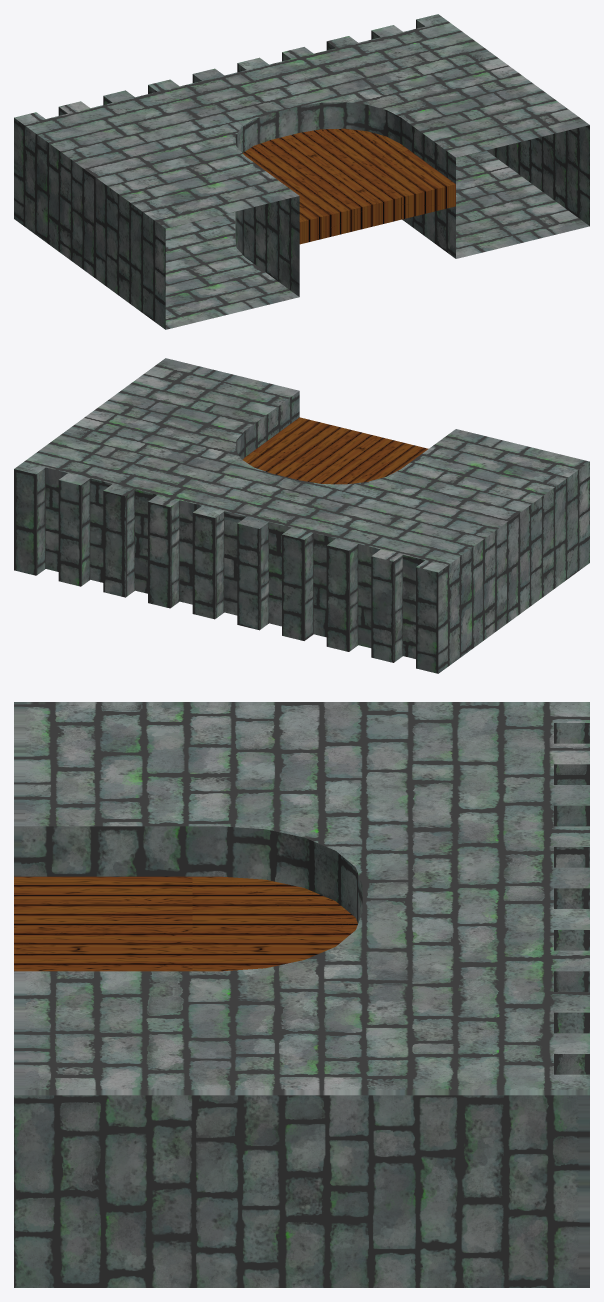
File: Stone_Gate_02.fbx
3 renders of one model, top to bottom at view 1: azimuth 30°, elevation 25°; view 2: azimuth 150°, elevation 25°; view 3: azimuth 270°, elevation 25°, orthographic. The views are drawn at different scales.
Visible parts, largest first — view 1: Stone_Gate_02, Stone_Gate_Door_02, Stone_Gate_Door_01; view 2: Stone_Gate_02, Stone_Gate_Door_02, Stone_Gate_Door_01; view 3: Stone_Gate_02, Stone_Gate_Door_01, Stone_Gate_Door_02.
Part boxes in pixels (x1,y1,x2,y2): Stone_Gate_02: (14, 14, 589, 329); Stone_Gate_Door_02: (286, 128, 455, 225); Stone_Gate_Door_01: (242, 136, 377, 244); Stone_Gate_02: (14, 358, 589, 673); Stone_Gate_Door_02: (243, 417, 377, 482); Stone_Gate_Door_01: (314, 436, 428, 484); Stone_Gate_02: (14, 702, 589, 1287); Stone_Gate_Door_01: (14, 876, 357, 949); Stone_Gate_Door_02: (14, 949, 328, 971).
Size of the model in its own units: 1558 by 356 by 965.
